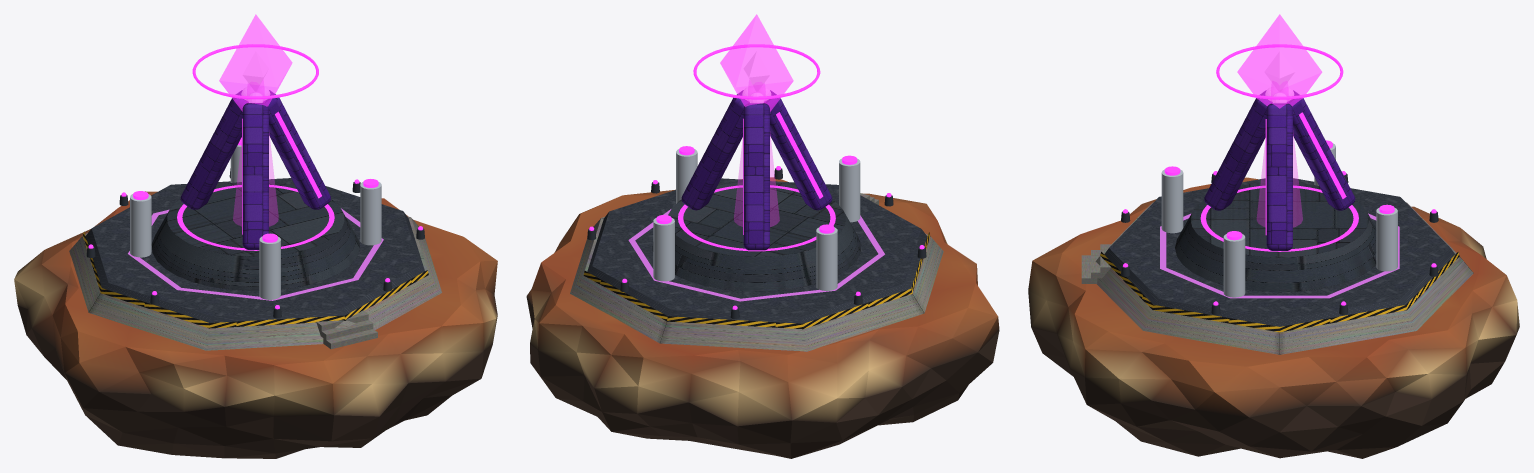
The model's file is laser-L75.glb.
3 renders of one model, left to right at view 1: azimuth 30°, elevation 25°; view 2: azimuth 150°, elevation 25°; view 3: azimuth 270°, elevation 25°, orthographic.
Visible parts, largest first — view 1: object 1, object 4, object 25, object 2, anim:crystal, object 30, object 33, object 27, object 3, object 5, object 36, object 38 (+6 smaller); view 2: object 1, object 4, object 25, object 2, anim:crystal, object 33, object 27, object 30, object 3, object 5, object 40, object 42 (+5 smaller); view 3: object 1, object 4, object 25, object 2, anim:crystal, object 27, object 30, object 33, object 3, object 38, object 5, object 36 (+4 smaller).
Boxes of the visible parts, <box> form: object 1: <box>14,191,497,458</box>; object 4: <box>85,178,424,322</box>; object 25: <box>151,182,359,290</box>; object 2: <box>69,216,441,350</box>; anim:crystal: <box>192,14,318,111</box>; object 30: <box>242,103,268,249</box>; object 33: <box>180,90,248,209</box>; object 27: <box>263,90,330,209</box>; object 3: <box>83,231,428,328</box>; object 5: <box>128,208,383,300</box>; object 36: <box>360,182,381,245</box>; object 38: <box>259,236,280,299</box>; object 1: <box>526,177,999,458</box>; object 4: <box>587,178,927,323</box>; object 25: <box>652,182,861,291</box>; object 2: <box>570,217,943,351</box>; anim:crystal: <box>693,14,820,111</box>; object 33: <box>743,103,769,250</box>; object 27: <box>681,90,749,210</box>; object 30: <box>764,90,832,210</box>; object 3: <box>583,232,930,329</box>; object 5: <box>628,209,884,301</box>; object 40: <box>816,227,837,290</box>; object 42: <box>653,218,674,281</box>; object 1: <box>1028,177,1519,458</box>; object 4: <box>1104,178,1455,326</box>; object 25: <box>1175,182,1376,292</box>; object 2: <box>1095,202,1473,354</box>; anim:crystal: <box>1216,14,1343,108</box>; object 27: <box>1266,103,1292,250</box>; object 30: <box>1204,90,1272,210</box>; object 33: <box>1287,90,1355,210</box>; object 3: <box>1100,251,1459,332</box>; object 38: <box>1161,169,1183,233</box>; object 5: <box>1160,213,1399,298</box>; object 36: <box>1223,234,1245,297</box>.
Bounding box in the file's own units: 6.29 × 5.5 × 6.33.
Materials: 13 (5 with a texture image).
